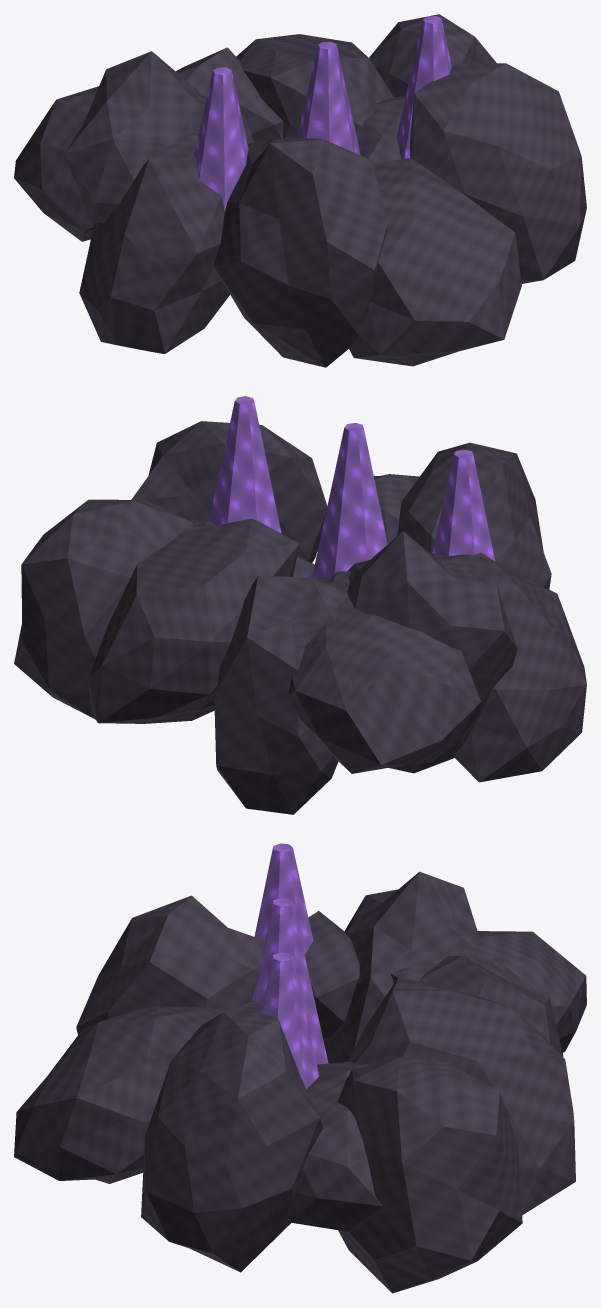
The model's file is underworld-resource-shardstone.glb.
The picture shows the model from 3 angles, top to bottom: view 1: azimuth 30°, elevation 25°; view 2: azimuth 150°, elevation 25°; view 3: azimuth 270°, elevation 25°; orthographic projection. The views are drawn at different scales.
Visible parts, largest first — view 1: rubble-7, rubble-5, rubble-2, rubble-4, rubble-9, rubble-3, rubble-1, inclusion-0, inclusion-1, rubble-8, rubble-6, inclusion-2 (+1 smaller); view 2: rubble-3, rubble-1, rubble-6, rubble-8, rubble-4, rubble-9, rubble-5, rubble-7, inclusion-1, inclusion-2, inclusion-0, rubble-2 (+1 smaller); view 3: rubble-5, rubble-8, rubble-3, rubble-2, rubble-7, rubble-9, rubble-0, rubble-1, rubble-6, rubble-4, inclusion-1, inclusion-2 (+1 smaller).
Part boxes in pixels (x1,y1,x2,y2): rubble-7: [213, 137, 387, 367]; rubble-5: [409, 63, 586, 283]; rubble-2: [348, 158, 521, 366]; rubble-4: [79, 133, 229, 353]; rubble-9: [64, 51, 254, 226]; rubble-3: [236, 34, 393, 137]; rubble-1: [14, 86, 206, 241]; inclusion-0: [194, 67, 248, 211]; inclusion-1: [297, 41, 360, 155]; rubble-8: [369, 14, 496, 96]; rubble-6: [176, 47, 283, 142]; inclusion-2: [396, 16, 451, 159]; rubble-3: [89, 518, 299, 723]; rubble-1: [288, 571, 480, 773]; rubble-6: [213, 575, 347, 814]; rubble-8: [14, 499, 194, 719]; rubble-4: [431, 552, 586, 782]; rubble-9: [347, 531, 517, 773]; rubble-5: [131, 421, 327, 562]; rubble-7: [397, 442, 551, 589]; inclusion-1: [312, 423, 387, 580]; inclusion-2: [209, 396, 281, 533]; inclusion-0: [432, 449, 495, 561]; rubble-2: [317, 474, 419, 551]; rubble-5: [141, 1000, 323, 1272]; rubble-8: [337, 1057, 522, 1293]; rubble-3: [348, 977, 575, 1214]; rubble-2: [14, 1006, 223, 1183]; rubble-7: [76, 895, 264, 1034]; rubble-9: [324, 871, 480, 1063]; rubble-0: [285, 1061, 382, 1231]; rubble-1: [390, 931, 586, 1052]; rubble-6: [419, 956, 563, 1056]; rubble-4: [304, 911, 359, 1044]; inclusion-1: [252, 898, 328, 1064]; inclusion-2: [262, 952, 319, 1088].
Bounding box in the file's own units: 0.2199 × 0.1287 × 0.2218.
Materials: 2 (2 with a texture image).
